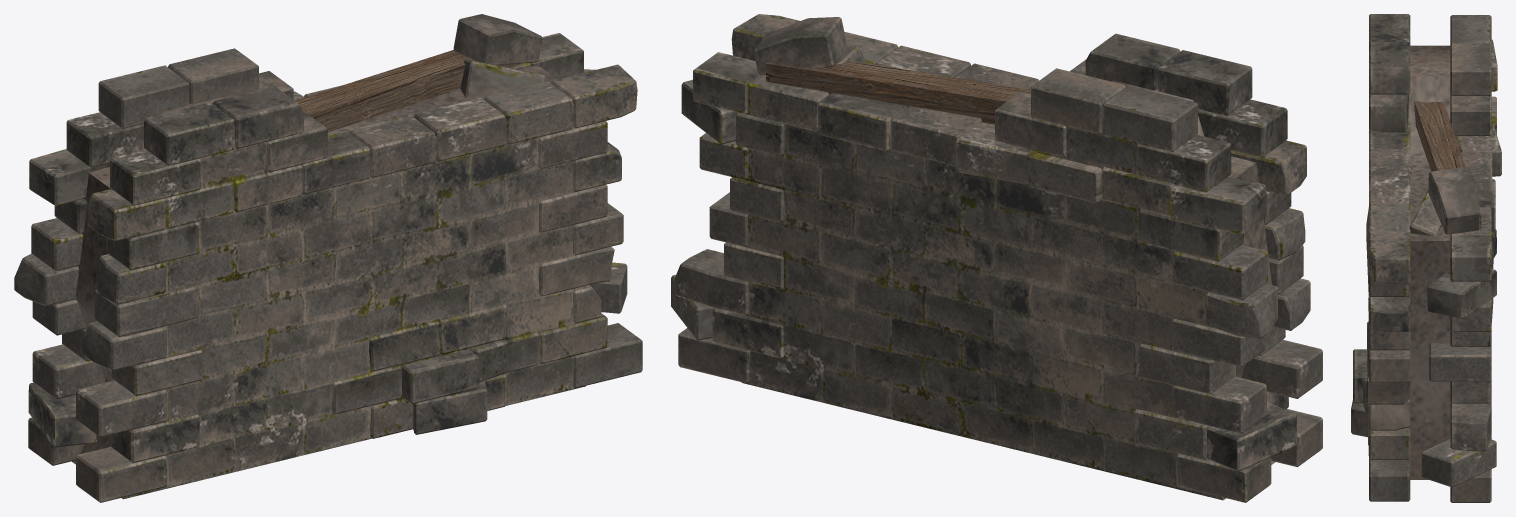
Rendered from SM_ASY_RuinsWall_2mWall.fbx.
3 renders of one model, left to right at view 1: azimuth 30°, elevation 25°; view 2: azimuth 150°, elevation 25°; view 3: azimuth 270°, elevation 25°, orthographic. The views are drawn at different scales.
Parts seen in each view (by area): view 1: SM_ASY_RuinsWall_2mWall.mo; view 2: SM_ASY_RuinsWall_2mWall.mo; view 3: SM_ASY_RuinsWall_2mWall.mo.
Part boxes in pixels (x1,y1,x2,y2): SM_ASY_RuinsWall_2mWall.mo: [14, 14, 642, 502]; SM_ASY_RuinsWall_2mWall.mo: [671, 14, 1322, 502]; SM_ASY_RuinsWall_2mWall.mo: [1351, 14, 1501, 502].
Bounding box in the file's own units: 221 × 127 × 58.53.
